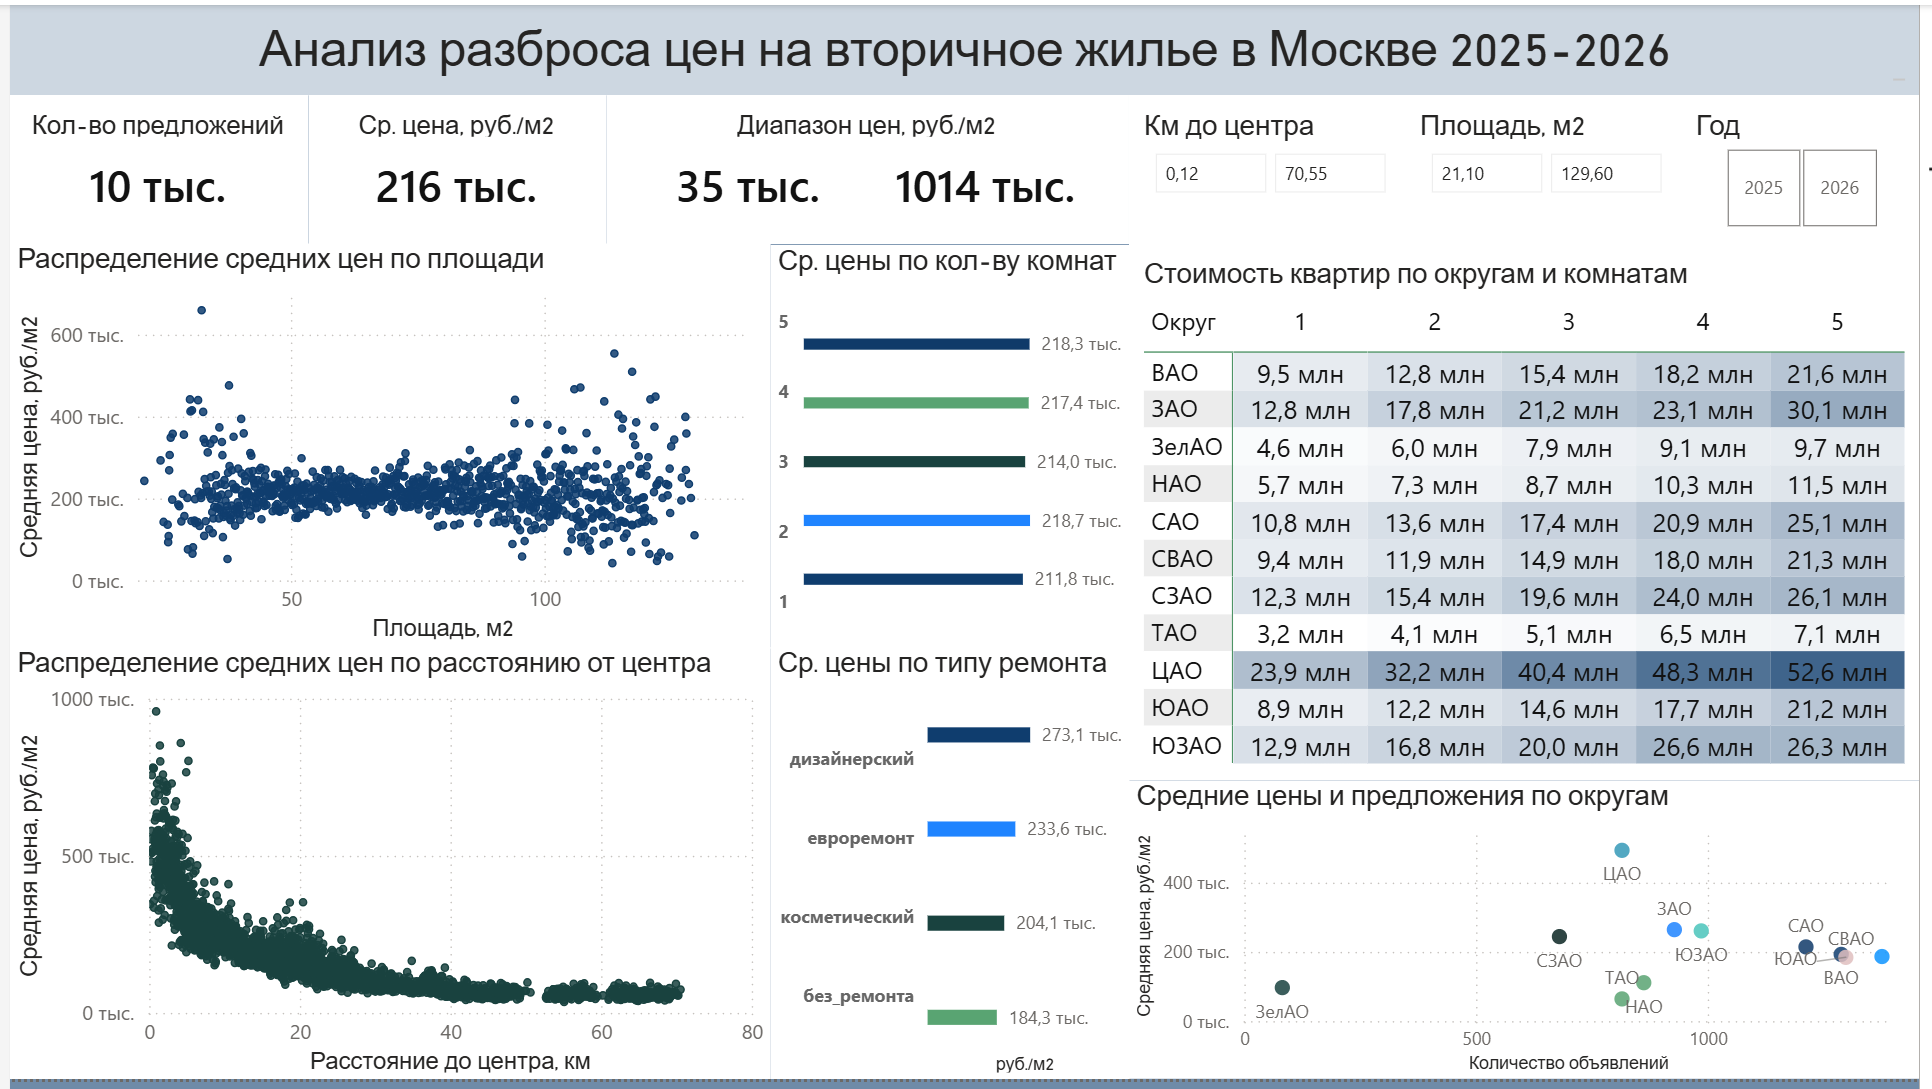

The dashboard page shown, as its layout file describes it:
{"tool":"powerbi","page":{"name":"Анализ разброса цен","canvas":[1280,720],"ordinal":1},"visuals":[{"type":"textbox","title":"Анализ разброса цен на вторичное жилье в Москве 2025-2026","box":[0,0,1280.3,60.3],"z":0},{"type":"clusteredBarChart","title":"Ср. цены по кол-ву комнат","fields":{"Category":["secondary_market.rooms"],"Y":["Avg(secondary_market.price_per_sqm)"],"Series":["secondary_market.rooms"]},"box":[510,160.9,240.4,270.6],"z":1000},{"type":"clusteredBarChart","title":"Ср. цены по типу ремонта","fields":{"Category":["secondary_market.Тип_ремонта"],"Y":["Avg(secondary_market.price_per_sqm)"],"Series":["secondary_market.Тип_ремонта"]},"box":[510,430.5,240.4,290],"z":2000},{"type":"scatterChart","title":"Средние цены и предложения по округам","fields":{"Series":["secondary_market.Округ"],"Y":["Avg(secondary_market.price_per_sqm)"],"X":["CountNonNull(secondary_market.id)"]},"box":[750,520,530,200],"z":3000},{"type":"scatterChart","title":"Распределение средних цен по площади","fields":{"Y":["Avg(secondary_market.price_per_sqm)"],"X":["secondary_market.total_area"]},"box":[0,160,510,270.6],"z":4000},{"type":"cardVisual","title":"Ср. цена, руб./м2","fields":{"Data":["Avg(secondary_market.price_per_sqm)"]},"box":[200.1,60.3,200.1,100],"z":5000},{"type":"cardVisual","title":"Кол-во предложений","fields":{"Data":["Count(secondary_market.id)"]},"box":[0,60.3,200.1,100],"z":6000},{"type":"cardVisual","title":"Диапазон цен, руб./м2","fields":{"Data":["Min(secondary_market.price_per_sqm)","Max(secondary_market.price_per_sqm)1"]},"box":[400.3,60.3,350,100],"z":7000},{"type":"pivotTable","title":"Стоимость квартир по округам и комнатам","fields":{"Rows":["secondary_market.Округ"],"Columns":["secondary_market.rooms"],"Values":["Avg(secondary_market.price_rub)"]},"box":[750,160,530,360],"z":8000},{"type":"scatterChart","title":"Распределение средних цен по расстоянию от центра","fields":{"Y":["Avg(secondary_market.price_per_sqm)"],"X":["secondary_market.to_center_km"]},"box":[0,430.5,510,290],"z":9000},{"type":"slicer","title":"Км до центра","fields":{"Values":["secondary_market.to_center_km"]},"box":[750,60,185,100],"z":10000},{"type":"slicer","title":"Площадь, м2","fields":{"Values":["secondary_market.total_area"]},"box":[935.6,60,185,100],"z":11000},{"type":"slicer","title":"Год","fields":{"Values":["secondary_market.year"]},"box":[1120.4,60.3,160,100],"z":12000}]}

Visuals, with their boxes in screenshot pixels (x1, y1, x2, y2), scaled from the page's 1280x720 canvas onto the 1932x1089 screenshot:
"Анализ разброса цен на вторичное жилье в Москве 2025-2026" textbox: (x1=0, y1=0, x2=1931, y2=91)
"Ср. цены по кол-ву комнат" clusteredBarChart: (x1=770, y1=243, x2=1133, y2=653)
"Ср. цены по типу ремонта" clusteredBarChart: (x1=770, y1=651, x2=1133, y2=1088)
"Средние цены и предложения по округам" scatterChart: (x1=1132, y1=786, x2=1931, y2=1088)
"Распределение средних цен по площади" scatterChart: (x1=0, y1=242, x2=770, y2=651)
"Ср. цена, руб./м2" cardVisual: (x1=302, y1=91, x2=604, y2=242)
"Кол-во предложений" cardVisual: (x1=0, y1=91, x2=302, y2=242)
"Диапазон цен, руб./м2" cardVisual: (x1=604, y1=91, x2=1132, y2=242)
"Стоимость квартир по округам и комнатам" pivotTable: (x1=1132, y1=242, x2=1931, y2=786)
"Распределение средних цен по расстоянию от центра" scatterChart: (x1=0, y1=651, x2=770, y2=1088)
"Км до центра" slicer: (x1=1132, y1=91, x2=1411, y2=242)
"Площадь, м2" slicer: (x1=1412, y1=91, x2=1691, y2=242)
"Год" slicer: (x1=1691, y1=91, x2=1931, y2=242)
